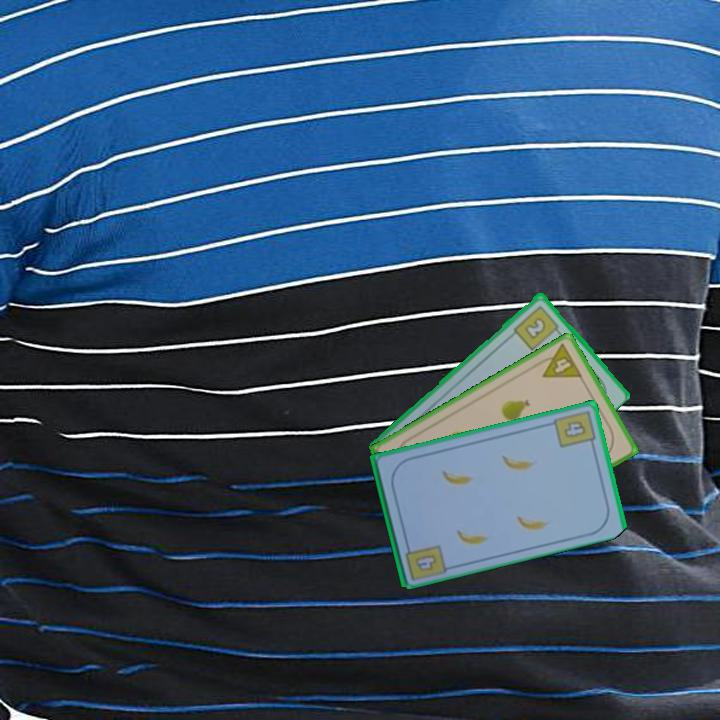2b: (510, 302, 564, 353)
4b: (550, 407, 598, 451), (411, 551, 440, 574)
4p: (532, 340, 585, 381)
